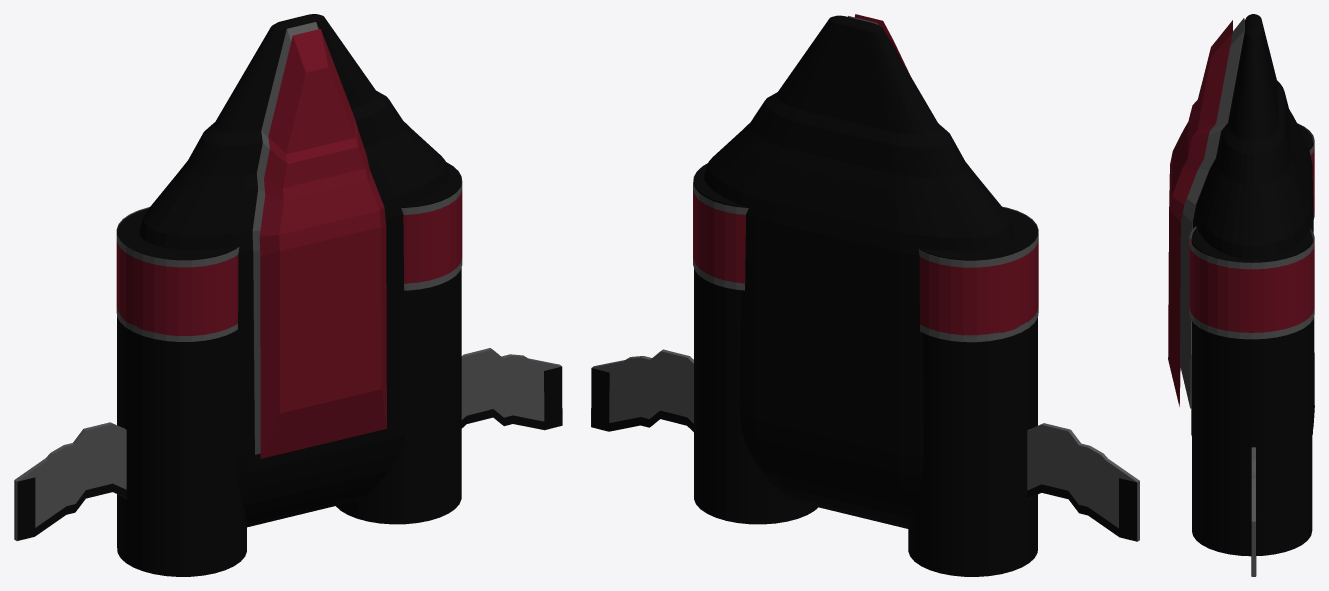
The model's file is Rocket.fbx.
3 renders of one model, left to right at view 1: azimuth 30°, elevation 25°; view 2: azimuth 150°, elevation 25°; view 3: azimuth 270°, elevation 25°, orthographic. The views are drawn at different scales.
Visible parts, largest first — view 1: Red Shield, Ship Body, Thrusters, Thrusters.001, Thruster Engine, Wing Detail Grey, Wing Detail Grey.001, Thruster Engine.001, Red Shield.002, Wing Detail black, Wing Detail black.001, Thruster Rim (+1 smaller); view 2: Ship Body, Thrusters, Thrusters.001, Thruster Engine, Wing Detail Grey, Wing Detail Grey.001, Thruster Engine.001, Wing Detail black, Wing Detail black.001, Thruster Rim, Thruster Rim.002; view 3: Thrusters.001, Ship Body, Thruster Engine.001, Red Shield, Red Shield.002, Thruster Rim.001, Thruster Rim.003, Wing Detail Grey.001.
Part boxes in pixels (x1,y1,x2,y2): Red Shield: [259, 29, 386, 458]; Ship Body: [139, 14, 449, 527]; Thrusters: [117, 208, 246, 576]; Thrusters.001: [336, 162, 461, 524]; Thruster Engine: [116, 239, 238, 335]; Wing Detail Grey: [14, 422, 126, 540]; Wing Detail Grey.001: [461, 348, 562, 430]; Thruster Engine.001: [403, 190, 462, 283]; Red Shield.002: [252, 22, 318, 454]; Wing Detail black: [17, 477, 126, 540]; Wing Detail black.001: [461, 366, 562, 429]; Thruster Rim: [116, 207, 239, 267]; Ship Body: [704, 15, 1013, 528]; Thrusters: [908, 208, 1037, 576]; Thrusters.001: [694, 163, 817, 524]; Thruster Engine: [919, 239, 1038, 336]; Wing Detail Grey: [1027, 423, 1139, 541]; Wing Detail Grey.001: [591, 349, 693, 431]; Thruster Engine.001: [693, 190, 745, 283]; Wing Detail black: [1027, 478, 1136, 541]; Wing Detail black.001: [591, 368, 693, 431]; Thruster Rim: [918, 206, 1038, 267]; Thruster Rim.002: [920, 306, 1038, 342]; Thrusters.001: [1192, 227, 1312, 556]; Ship Body: [1191, 14, 1314, 433]; Thruster Engine.001: [1189, 238, 1314, 332]; Red Shield: [1168, 20, 1232, 406]; Red Shield.002: [1180, 18, 1244, 408]; Thruster Rim.001: [1189, 226, 1314, 269]; Thruster Rim.003: [1189, 308, 1314, 339]; Wing Detail Grey.001: [1251, 447, 1255, 576].
Size of the model in its own units: 572 by 502 by 144.
